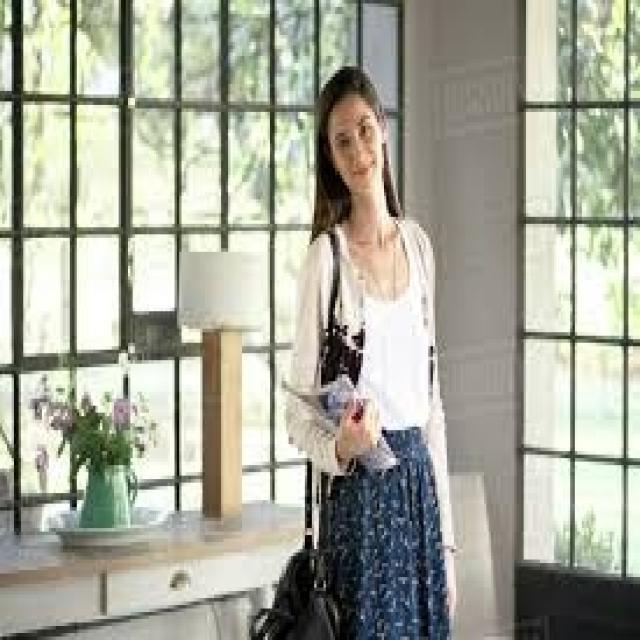walking: (271, 59, 457, 639)
